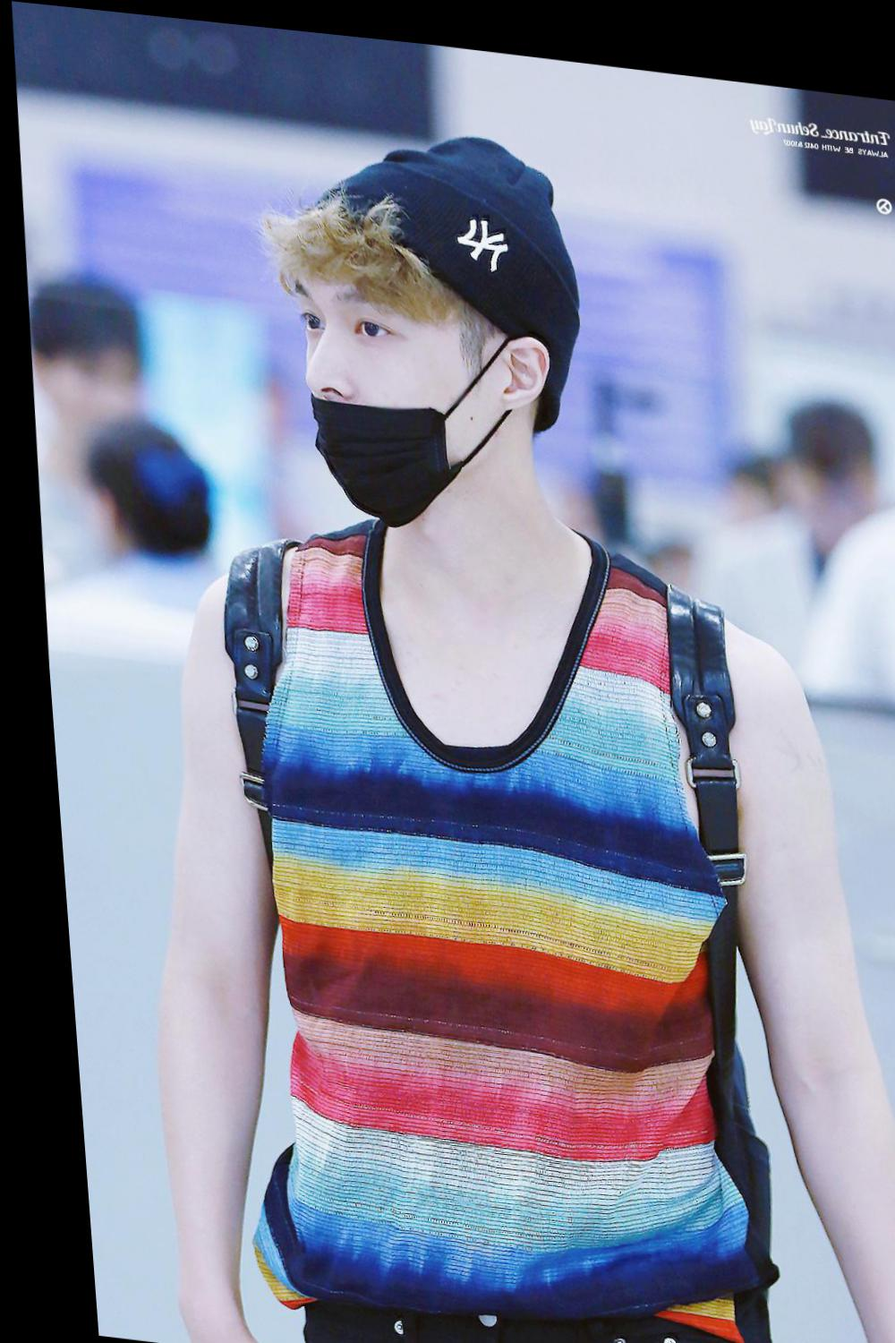WRONG: (284, 256, 474, 526)
